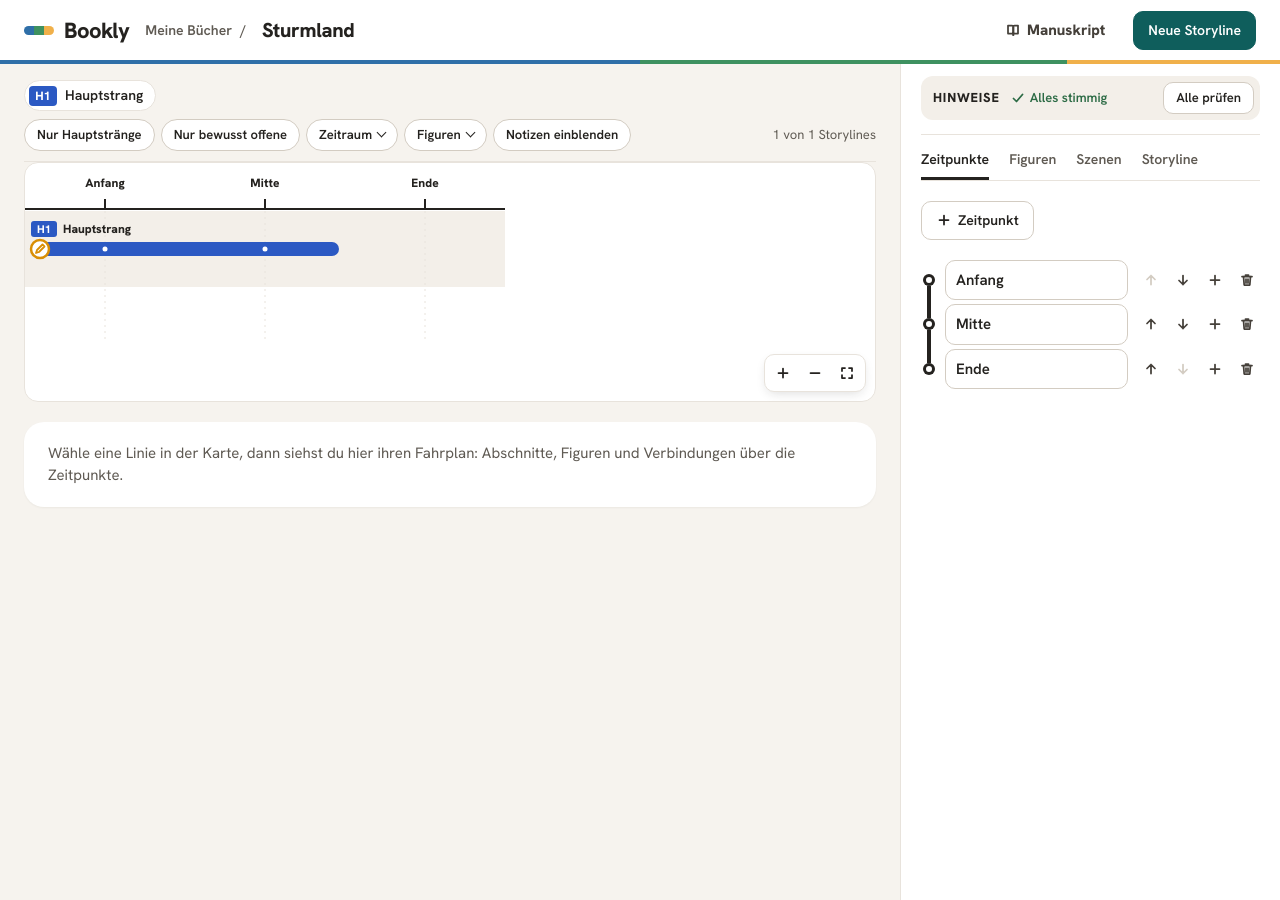
Test: TimePointPanel › renders usages from a 409 (race with another editor)
Click the tab "Zeitpunkte".
click(955, 159)  # box [921,138,989,180]
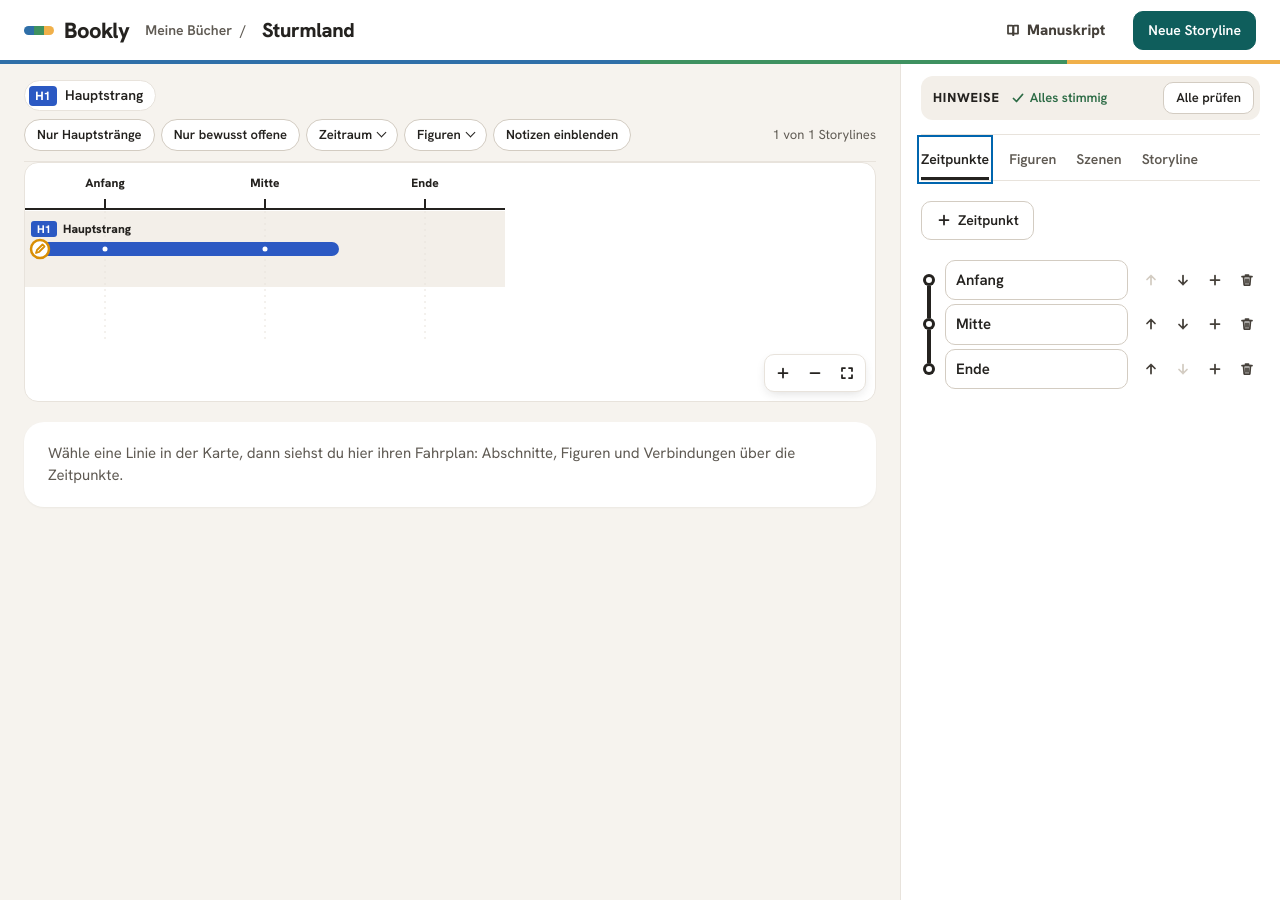
Click the button named "Zeitpunkt „Ende“ löschen".
click(1245, 369)  # box [1230,354,1260,384]
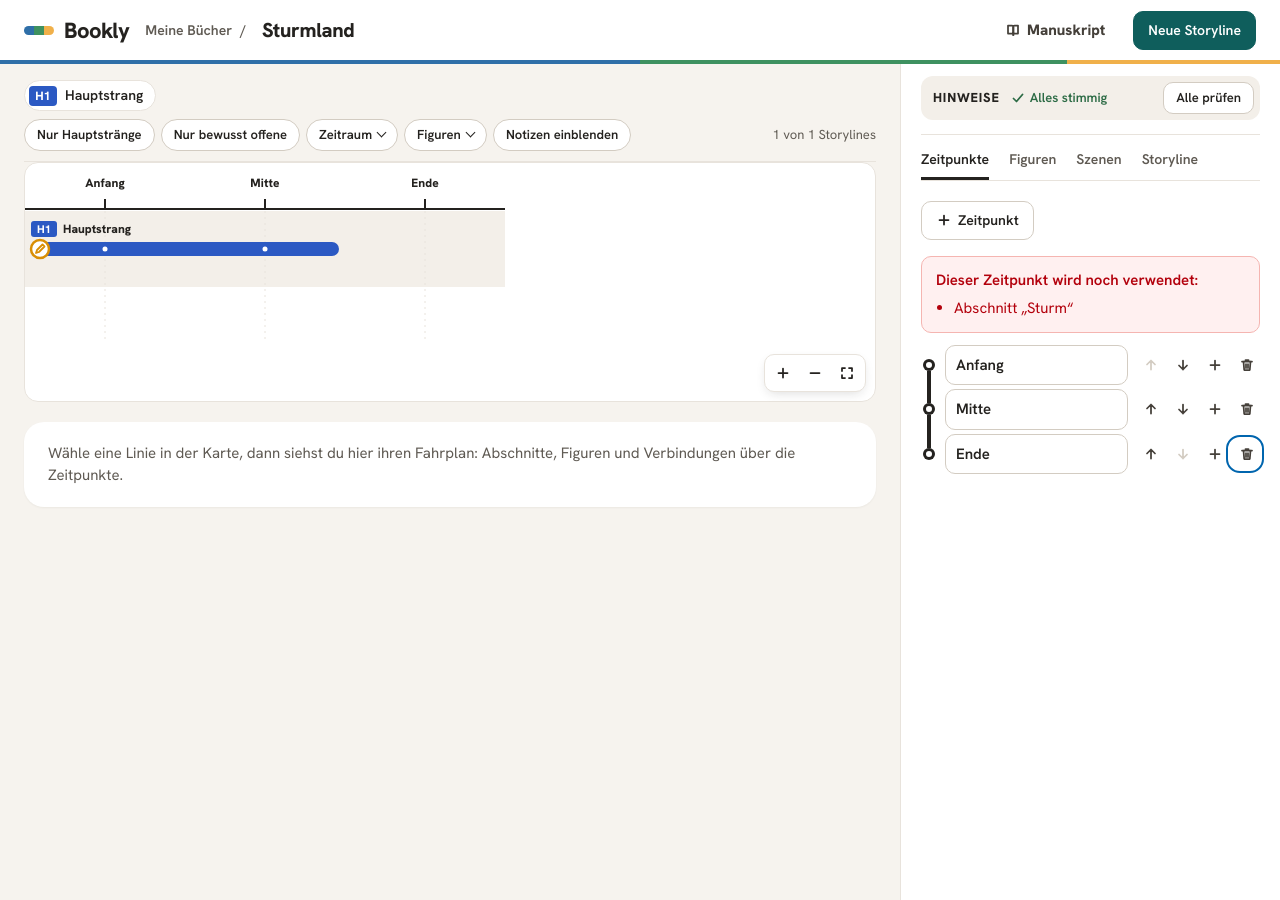
Expected: the list item "Abschnitt „Sturm“" is shown, [954,298,1074,318]
